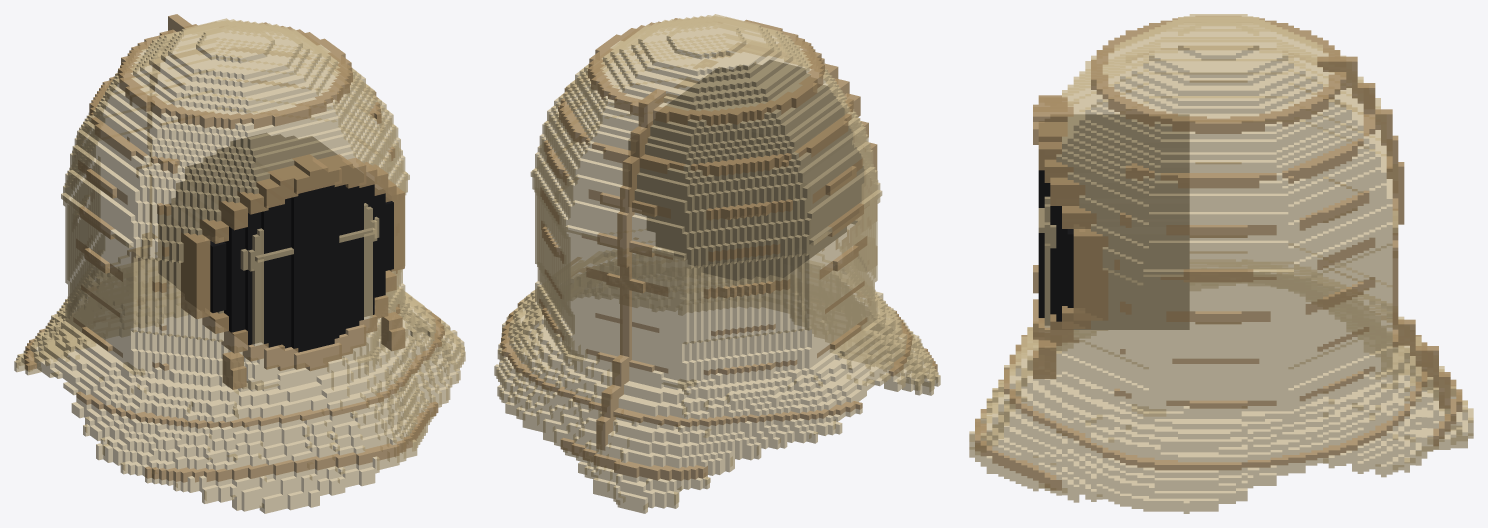
The model's file is hood_gut.glb.
3 views of the same model, side by side, from view 1: azimuth 30°, elevation 25°; view 2: azimuth 150°, elevation 25°; view 3: azimuth 270°, elevation 25° (orthographic). The views are drawn at different scales.
Visible parts, largest first — view 1: hood_gut:compound; view 2: hood_gut:compound; view 3: hood_gut:compound.
Boxes of the visible parts, x1=… form: hood_gut:compound: x1=14, y1=14, x2=465, y2=513; hood_gut:compound: x1=494, y1=14, x2=940, y2=513; hood_gut:compound: x1=969, y1=14, x2=1473, y2=513.
Size of the model in its own units: 0.336 by 0.32 by 0.348.
